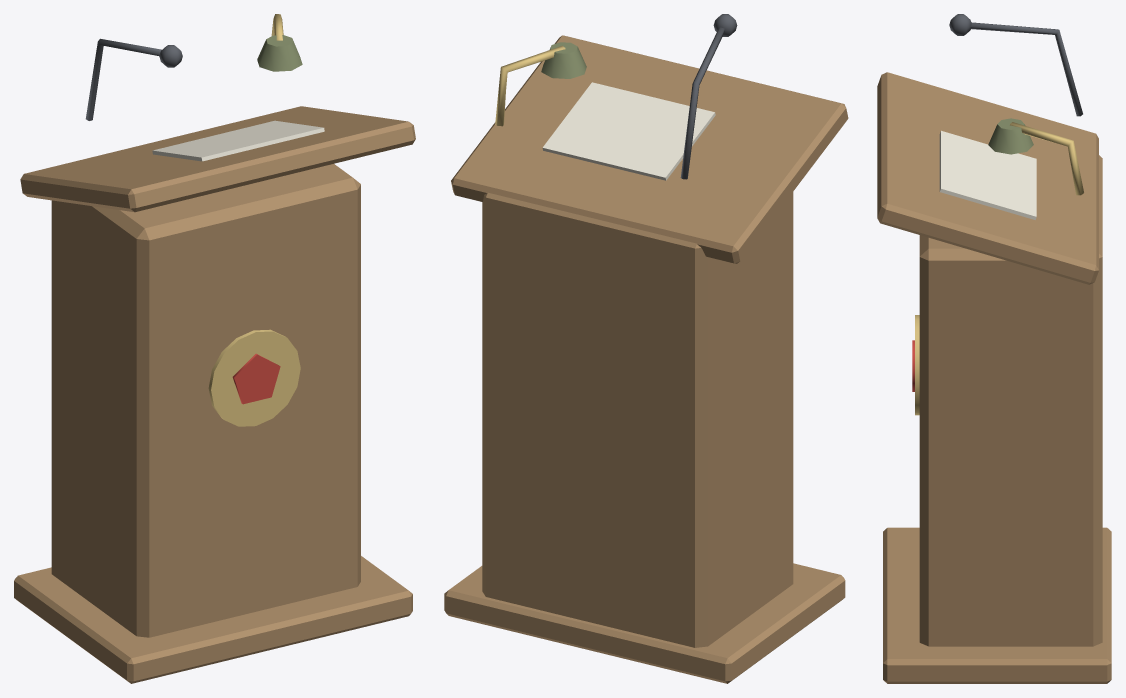
File: lectern.glb
3 renders of one model, left to right at view 1: azimuth 30°, elevation 25°; view 2: azimuth 150°, elevation 25°; view 3: azimuth 270°, elevation 25°, orthographic. The views are drawn at different scales.
Visible parts, largest first — view 1: lectern; view 2: lectern; view 3: lectern.
Part boxes in pixels (box(x1,y1,x2,y2)): lectern: box(14, 14, 415, 683); lectern: box(444, 14, 848, 683); lectern: box(877, 14, 1111, 683).
Bounding box in the file's own units: 0.7 × 1.38 × 0.5124.
